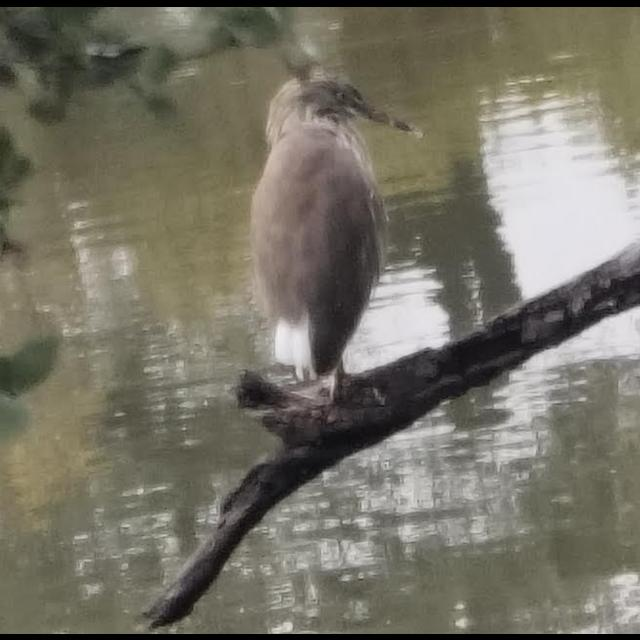heron: (247, 70, 426, 384)
